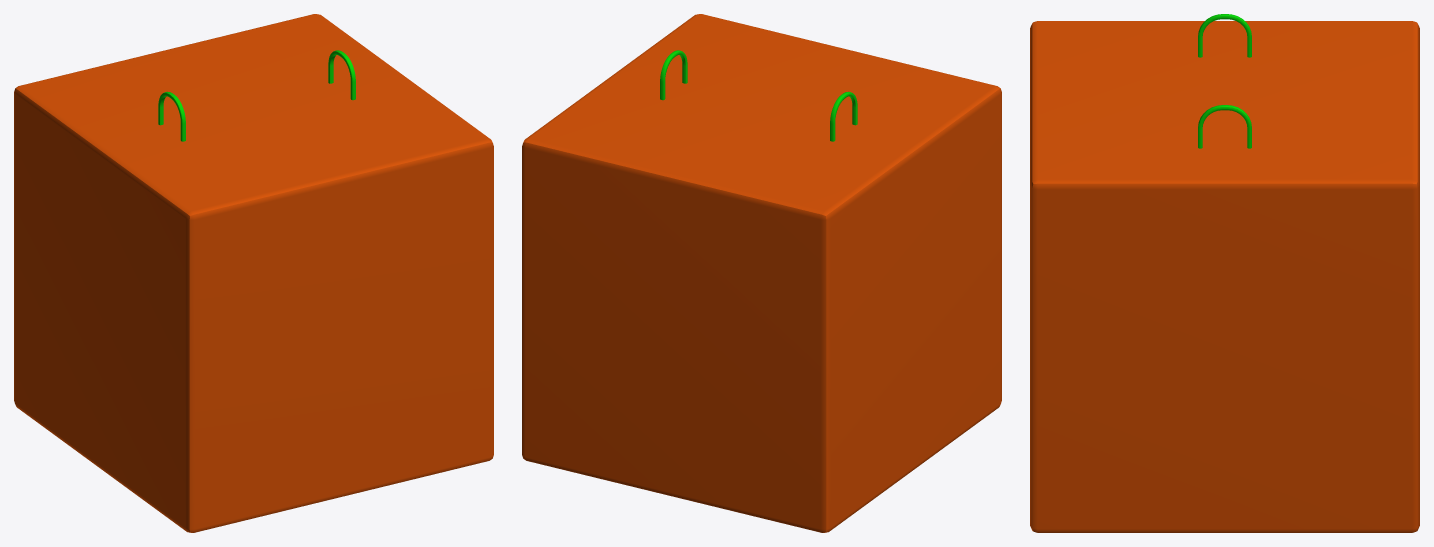
The model's file is ConcreteBlock.fbx.
3 views of the same model, side by side, from view 1: azimuth 30°, elevation 25°; view 2: azimuth 150°, elevation 25°; view 3: azimuth 270°, elevation 25° (orthographic). The views are drawn at different scales.
Parts seen in each view (by area): view 1: concreteBlock_0; view 2: concreteBlock_0; view 3: concreteBlock_0.
Boxes of the visible parts, left/top/right/bottom form: concreteBlock_0: left=14, top=14, right=493, bottom=532; concreteBlock_0: left=522, top=14, right=1001, bottom=532; concreteBlock_0: left=1030, top=14, right=1419, bottom=532.
Bounding box in the file's own units: 1 × 1.12 × 1.
